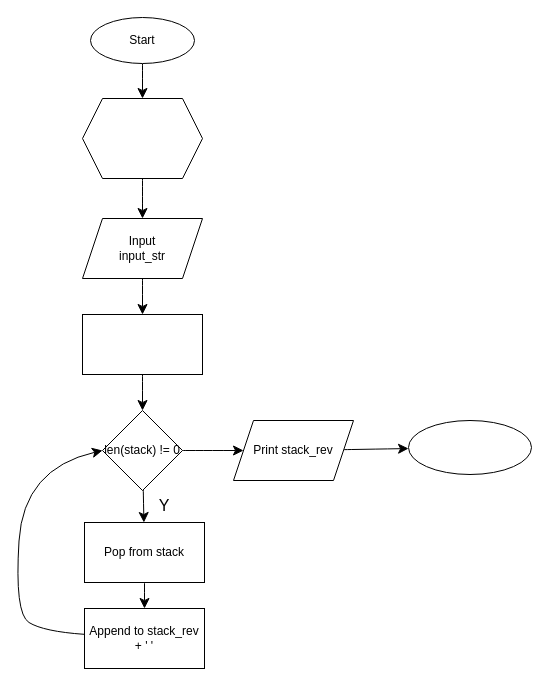
Image size: 549x686. Some labels were removed from this diagram. The centre of each missing label's shape, as x and y in pixels:
"End" belongs at point (470, 447).
"stack = input_str.split()[::1]" belongs at point (142, 344).
"str: input_str, stack stack_rev = ' '" belongs at point (142, 138).
